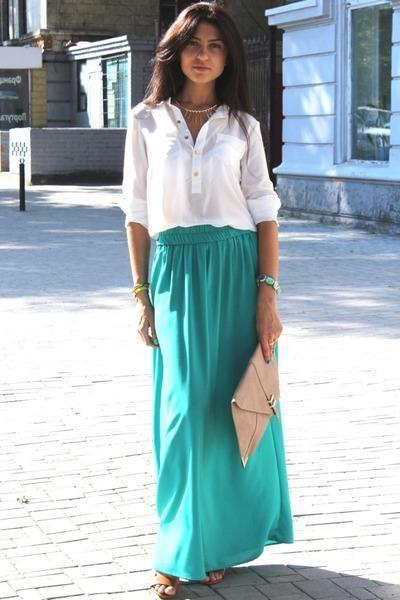short sleeve shirt: (115, 98, 282, 242)
skirt: (143, 220, 300, 579)
